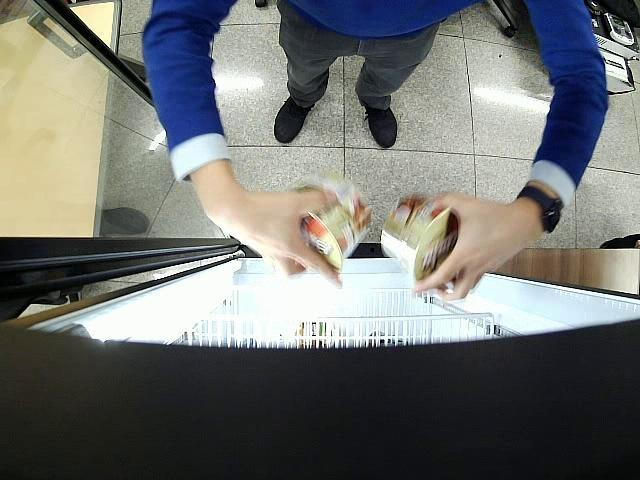03_chapagetti_L: (381, 192, 483, 290), (285, 172, 374, 272)
